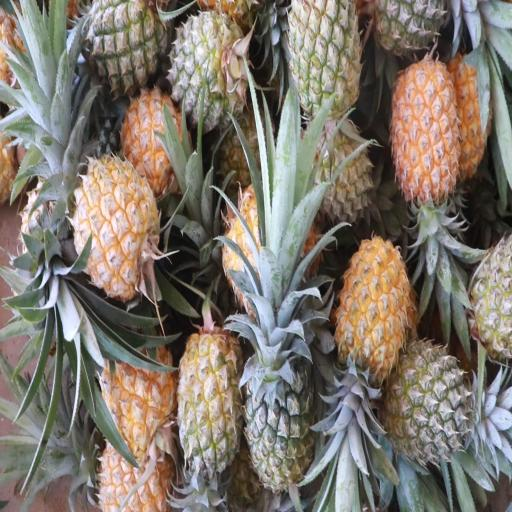------------------------------: (177, 325, 241, 497)
Pineapple - v8 v1: (334, 234, 405, 462), (396, 68, 463, 296), (66, 166, 165, 300), (100, 331, 181, 463), (120, 94, 196, 208)
